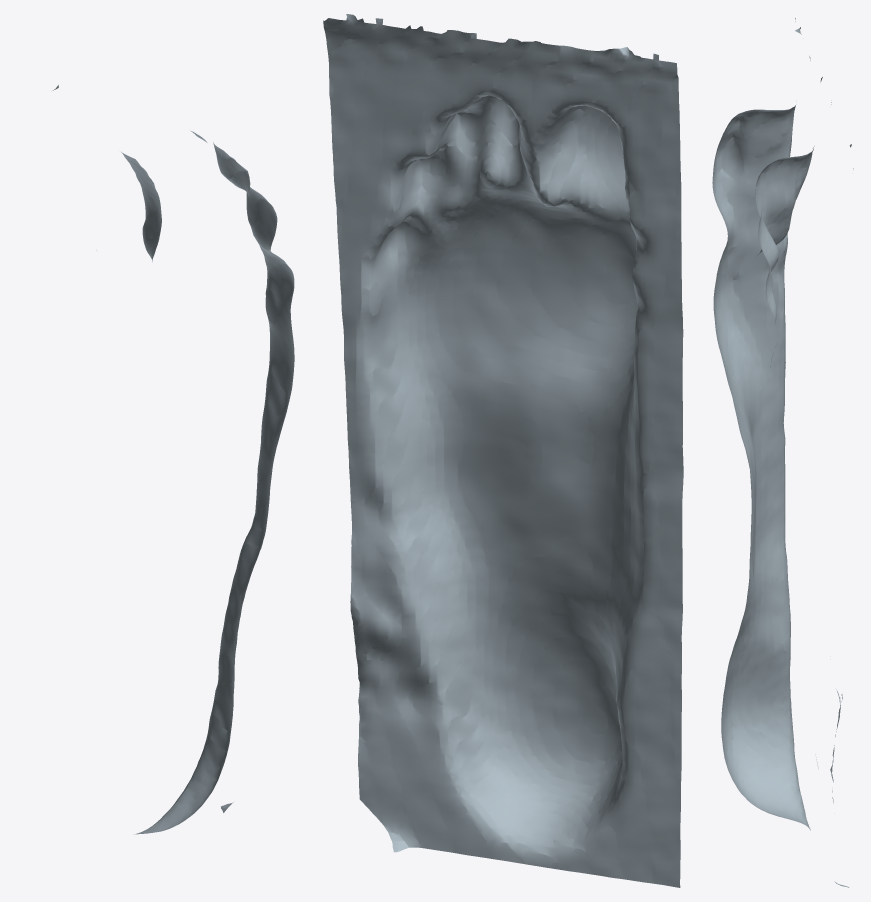
Rendered from test_colored.glb.
3 renders of one model, left to right at view 1: azimuth 30°, elevation 25°; view 2: azimuth 150°, elevation 25°; view 3: azimuth 270°, elevation 25°, orthographic. The views are drawn at different scales.
Parts seen in each view (by area): view 1: test.obj; view 2: test.obj; view 3: test.obj.
Boxes of the visible parts, x1,y1,x2,y2 form: test.obj: (53, 85, 294, 834); test.obj: (323, 14, 683, 887); test.obj: (712, 18, 853, 887).
Bounding box in the file's own units: 121 × 300 × 51.13.
